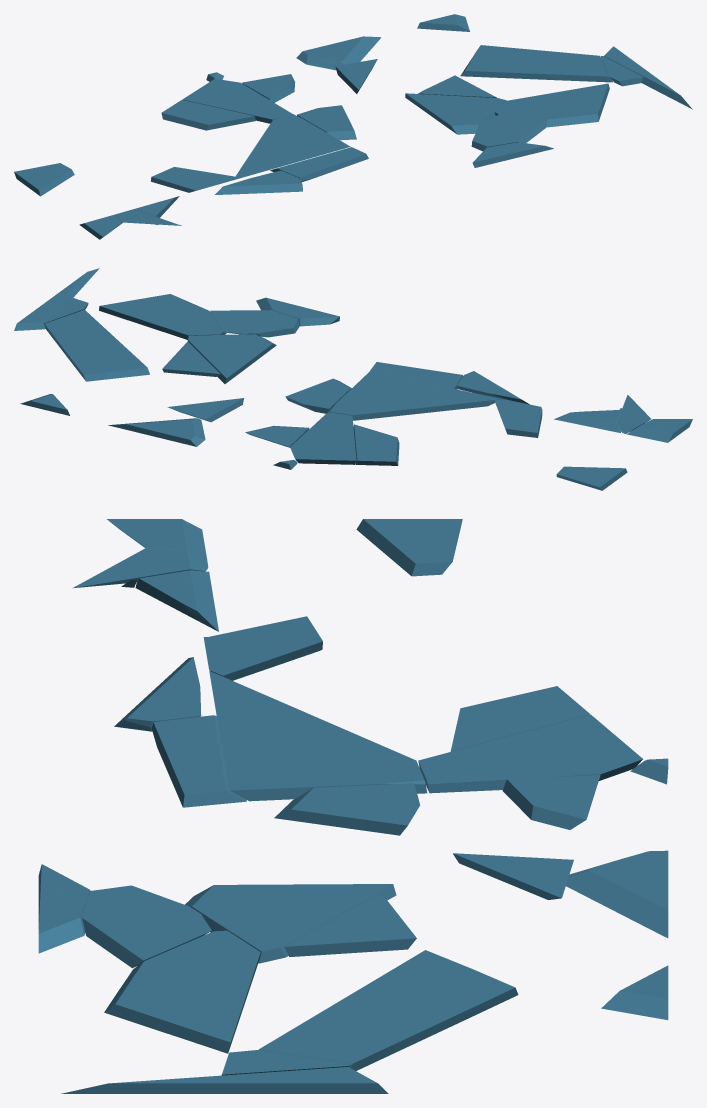
File: glass2.fbx
The picture shows the model from 3 angles, top to bottom: view 1: azimuth 30°, elevation 25°; view 2: azimuth 150°, elevation 25°; view 3: azimuth 270°, elevation 25°; orthographic projection. The views are drawn at different scales.
Parts seen in each view (by area): view 1: Glass_cell_cell_003Shape_40_0; view 2: Glass_cell_cell_003Shape_40_0; view 3: Glass_cell_cell_003Shape_40_0.
Part boxes in pixels (x1,y1,x2,y2): Glass_cell_cell_003Shape_40_0: [14, 14, 692, 239]; Glass_cell_cell_003Shape_40_0: [14, 268, 692, 490]; Glass_cell_cell_003Shape_40_0: [38, 519, 668, 1093].
Bounding box in the file's own units: 144 × 1.25 × 67.97.
